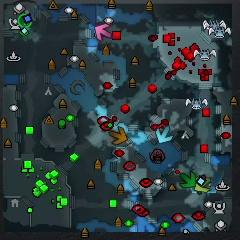Other: (18, 13, 33, 28)
x1: (95, 23, 112, 40)
x2: (194, 177, 213, 194)
x3: (155, 127, 173, 145)
x4: (178, 173, 197, 189)
x5: (108, 128, 128, 145)
